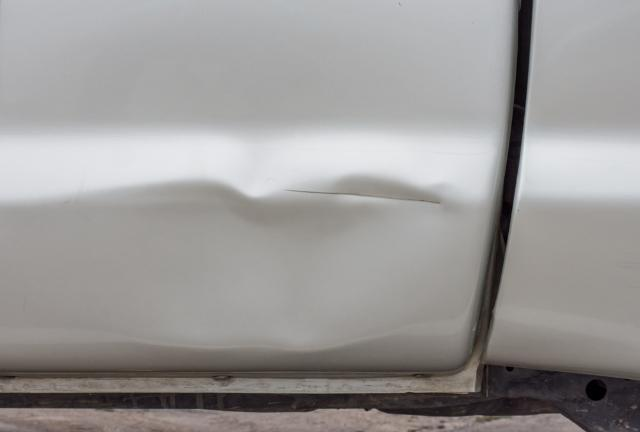dent: (64, 175, 446, 351)
